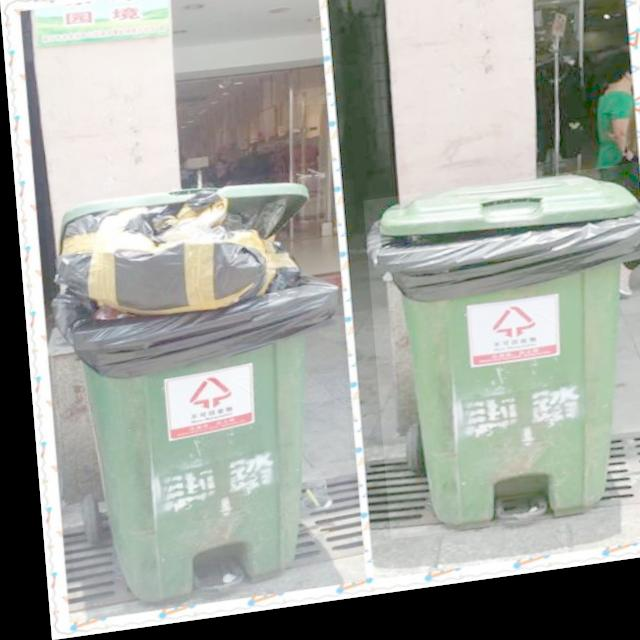garbage_bin: (359, 180, 640, 550)
overflow: (40, 175, 349, 613)
